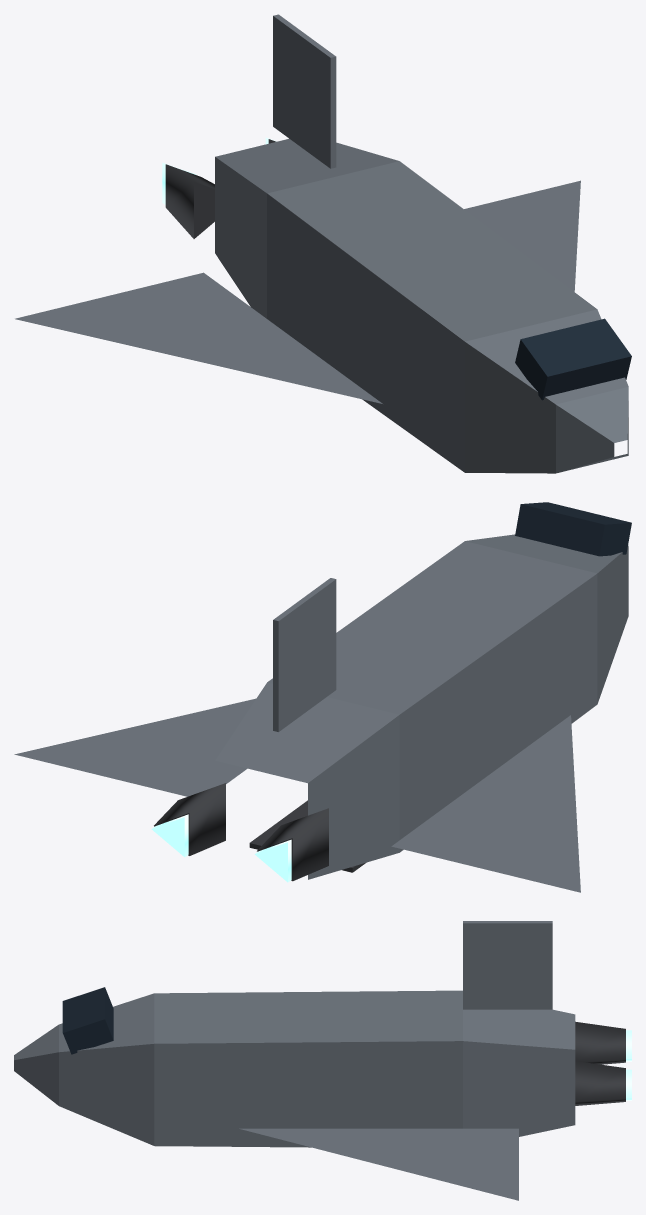
File: space_ship_shuttle_mk3_lod2.glb
3 views of the same model, one above another, from view 1: azimuth 30°, elevation 25°; view 2: azimuth 150°, elevation 25°; view 3: azimuth 270°, elevation 25° (orthographic). The views are drawn at different scales.
Parts seen in each view (by area): view 1: body, engine_1; view 2: body, engine_0, engine_1, ramp; view 3: body, engine_0, engine_1.
Part boxes in pixels (x1,y1,x2,y2): body: (15, 14, 631, 473); engine_1: (162, 162, 214, 238); body: (14, 502, 631, 892); engine_0: (151, 783, 225, 857); engine_1: (254, 808, 328, 882); ramp: (249, 800, 365, 872); body: (14, 921, 575, 1200); engine_0: (575, 1061, 631, 1105); engine_1: (575, 1021, 631, 1064).
Size of the model in its own units: 10.16 by 4.42 by 12.29.
